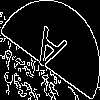A: (25, 25, 68, 82)
